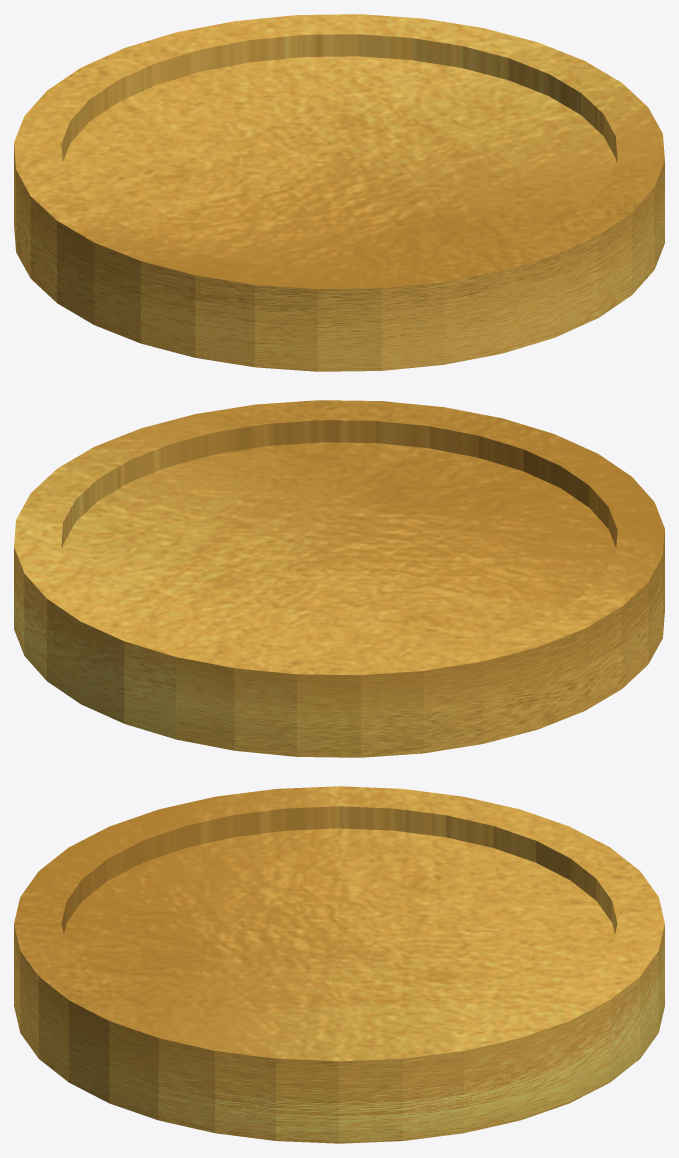
The model's file is coin.gltf.
The picture shows the model from 3 angles, top to bottom: view 1: azimuth 30°, elevation 25°; view 2: azimuth 150°, elevation 25°; view 3: azimuth 270°, elevation 25°; orthographic projection.
Visible parts, largest first — view 1: Cylinder; view 2: Cylinder; view 3: Cylinder.
Boxes of the visible parts, left/top/right/bottom form: Cylinder: left=14, top=14, right=664, bottom=371; Cylinder: left=14, top=400, right=664, bottom=757; Cylinder: left=14, top=786, right=664, bottom=1143.
Bounding box in the file's own units: 2 × 0.2791 × 2.
1 material, 1 textured.
